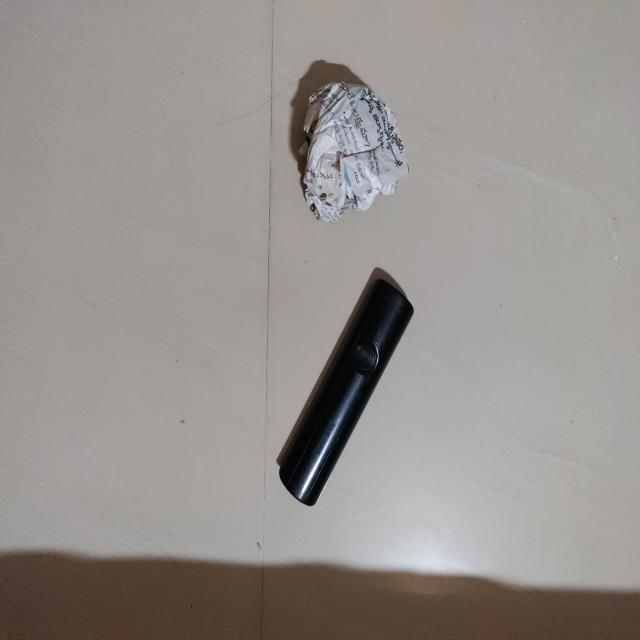dry: (275, 278, 415, 506), (300, 81, 409, 222)
